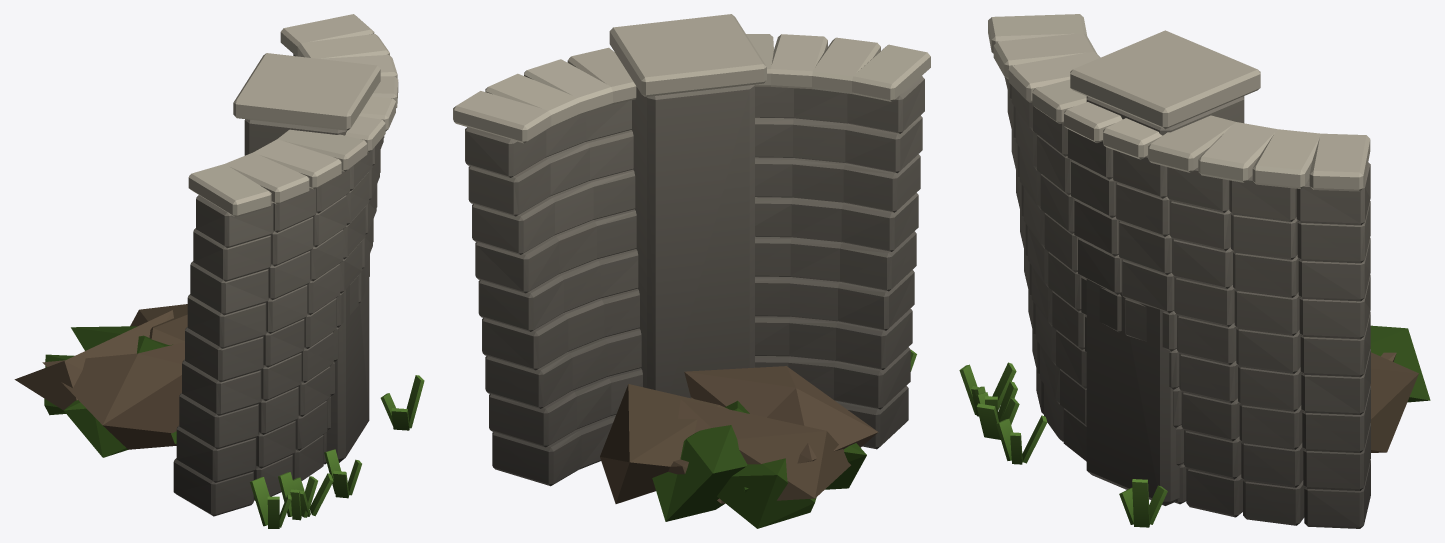
The model's file is cutting-wall-corner.glb.
3 views of the same model, side by side, from view 1: azimuth 30°, elevation 25°; view 2: azimuth 150°, elevation 25°; view 3: azimuth 270°, elevation 25° (orthographic). The views are drawn at different scales.
Visible parts, largest first — view 1: cutting_wall_corner; view 2: cutting_wall_corner; view 3: cutting_wall_corner.
Boxes of the visible parts, <box> form: cutting_wall_corner: <box>14,14,424,528</box>; cutting_wall_corner: <box>453,14,930,528</box>; cutting_wall_corner: <box>959,14,1430,528</box>.
Bounding box in the file's own units: 2.33 × 2.34 × 2.45.
